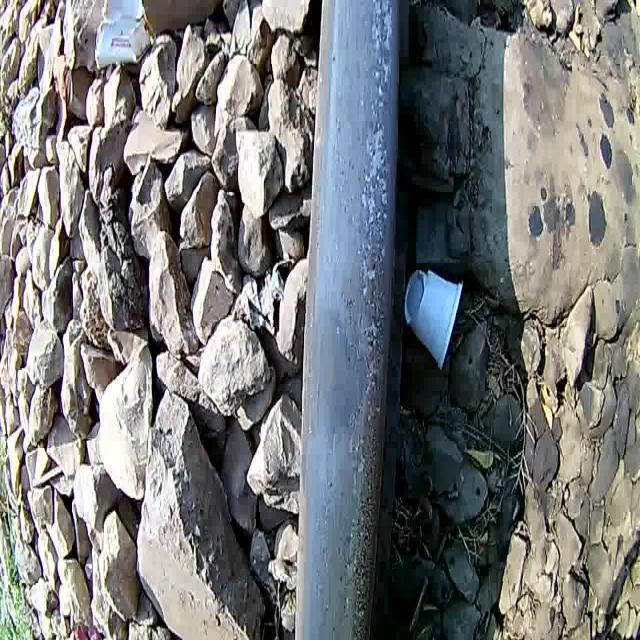Squats: (282, 0, 422, 640)
